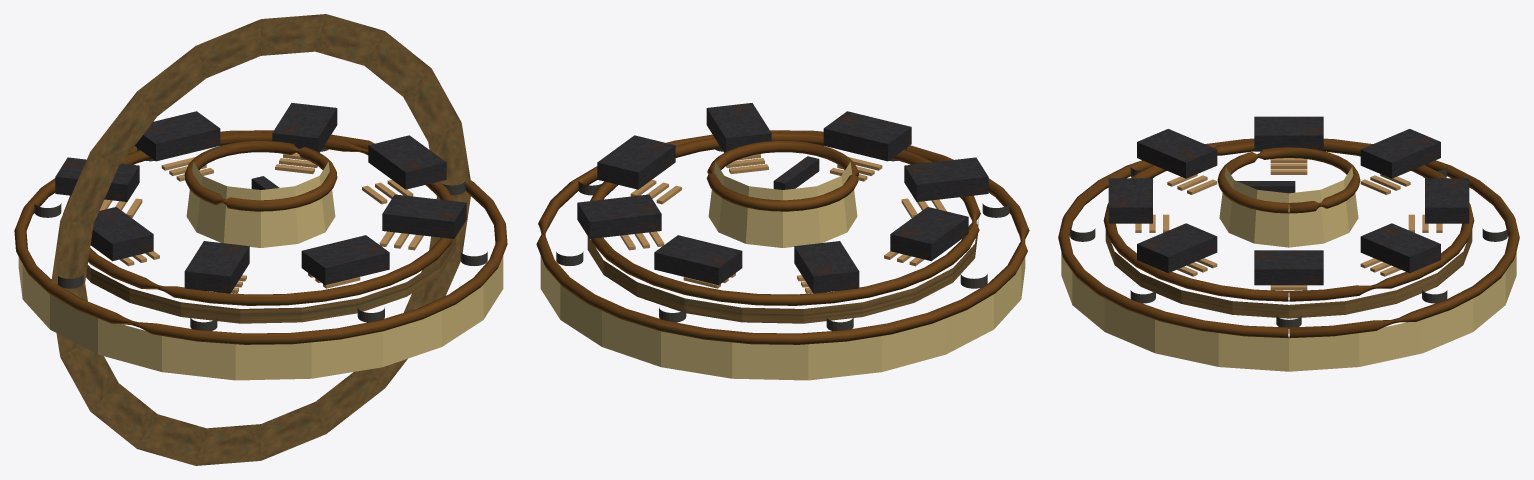
The model's file is bagua_lock.glb.
3 views of the same model, side by side, from view 1: azimuth 30°, elevation 25°; view 2: azimuth 150°, elevation 25°; view 3: azimuth 270°, elevation 25° (orthographic). The views are drawn at different scales.
Parts seen in each view (by area): view 1: BaseRing, Art_OxidizedBrass, Base, Knob, Ring, Slot0, Slot1, Art_OldGoldThread, Slot2, Slot4, Slot7, Slot6 (+3 smaller); view 2: Art_OxidizedBrass, Base, Knob, Ring, Slot0, Slot4, Slot3, Slot7, Art_OldGoldThread, Slot2, Slot6, Slot5 (+3 smaller); view 3: Art_OxidizedBrass, Base, Knob, Ring, Art_OldGoldThread, Slot1, Slot3, Slot5, Slot7, Slot2, Slot6, Slot0 (+3 smaller).
Part boxes in pixels (x1=…): BaseRing: x1=51, y1=14, x2=470, y2=465; Art_OxidizedBrass: x1=14, y1=130, x2=507, y2=344; Base: x1=18, y1=256, x2=503, y2=380; Knob: x1=186, y1=162, x2=335, y2=247; Ring: x1=86, y1=236, x2=456, y2=323; Slot0: x1=301, y1=235, x2=389, y2=285; Slot1: x1=382, y1=194, x2=466, y2=238; Art_OldGoldThread: x1=99, y1=153, x2=423, y2=293; Slot2: x1=368, y1=135, x2=446, y2=189; Slot4: x1=135, y1=111, x2=220, y2=161; Slot7: x1=184, y1=241, x2=249, y2=293; Slot6: x1=90, y1=207, x2=153, y2=261; Art_OxidizedBrass: x1=536, y1=130, x2=1029, y2=344; Base: x1=540, y1=240, x2=1025, y2=380; Knob: x1=708, y1=162, x2=857, y2=247; Ring: x1=587, y1=219, x2=978, y2=323; Slot0: x1=823, y1=111, x2=911, y2=161; Slot4: x1=654, y1=235, x2=742, y2=285; Slot3: x1=577, y1=194, x2=661, y2=238; Slot7: x1=904, y1=157, x2=988, y2=201; Art_OldGoldThread: x1=620, y1=154, x2=946, y2=293; Slot2: x1=597, y1=135, x2=675, y2=189; Slot6: x1=890, y1=207, x2=968, y2=261; Slot5: x1=794, y1=241, x2=859, y2=293; Art_OxidizedBrass: x1=1058, y1=138, x2=1519, y2=338; Base: x1=1061, y1=252, x2=1516, y2=371; Knob: x1=1219, y1=167, x2=1358, y2=247; Ring: x1=1105, y1=230, x2=1472, y2=318; Art_OldGoldThread: x1=1135, y1=158, x2=1442, y2=290; Slot1: x1=1137, y1=223, x2=1217, y2=273; Slot3: x1=1360, y1=223, x2=1440, y2=273; Slot5: x1=1360, y1=129, x2=1440, y2=178; Slot7: x1=1137, y1=129, x2=1217, y2=178; Slot2: x1=1254, y1=250, x2=1323, y2=285; Slot6: x1=1254, y1=116, x2=1323, y2=151; Slot0: x1=1108, y1=178, x2=1152, y2=223.
Size of the model in its own units: 0.365 by 0.36 by 0.365.
6 materials, 3 textured.
